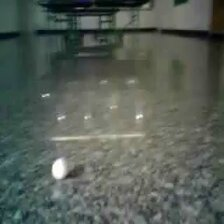w: (51, 157, 69, 178)
